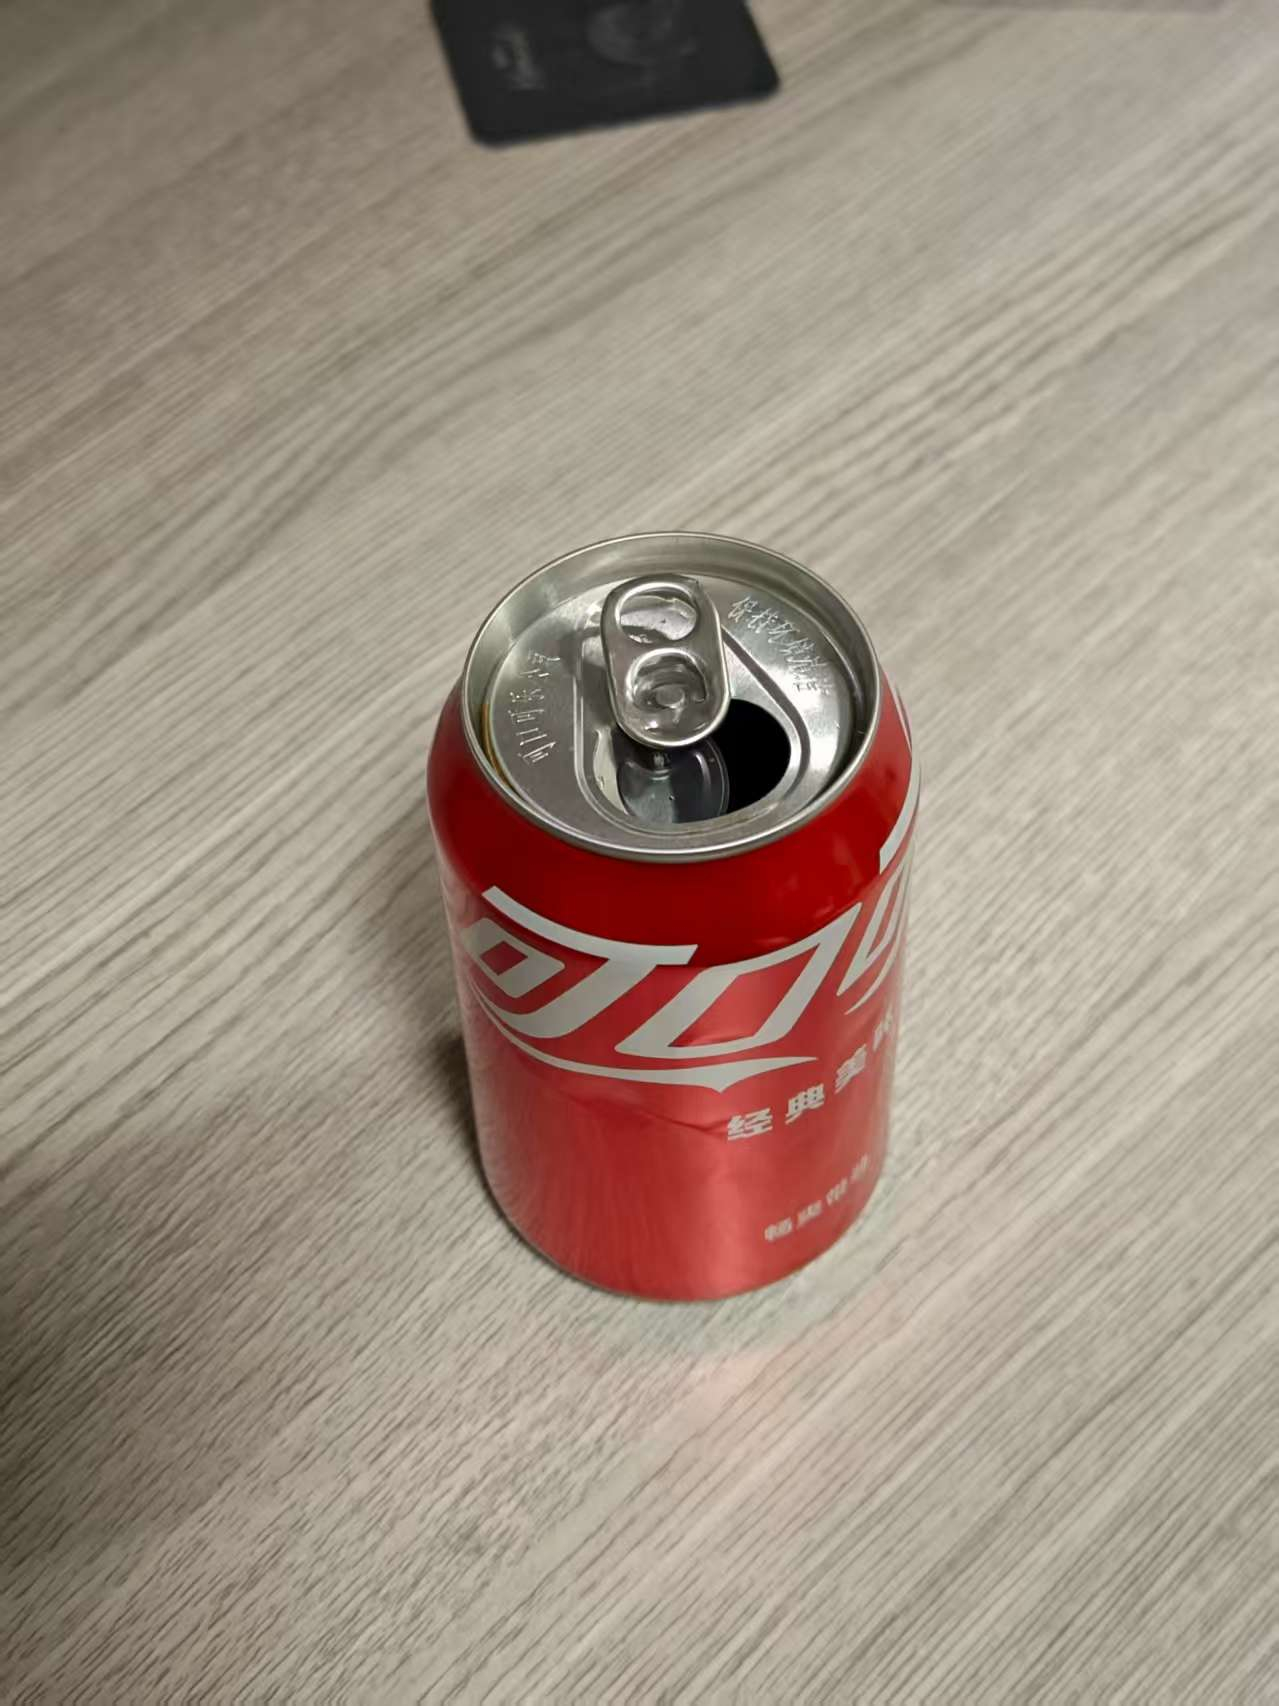可乐: (406, 498, 1016, 1432)
